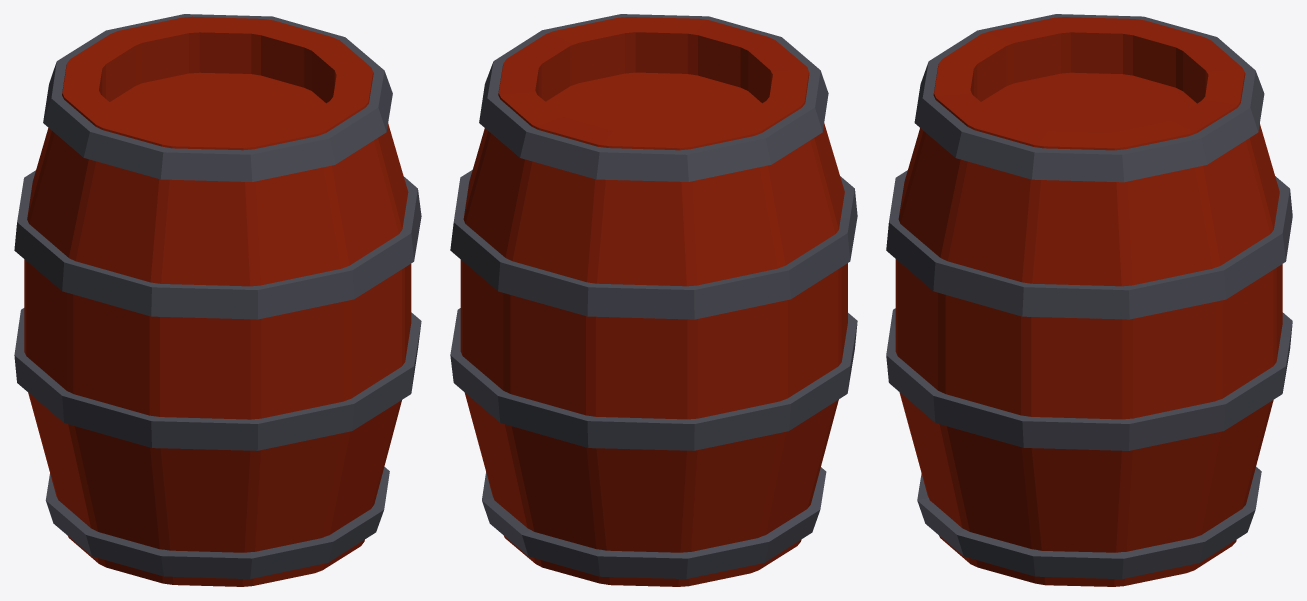
The model's file is Barrel_3.fbx.
3 renders of one model, left to right at view 1: azimuth 30°, elevation 25°; view 2: azimuth 150°, elevation 25°; view 3: azimuth 270°, elevation 25°, orthographic.
Visible parts, largest first — view 1: Barrel_3; view 2: Barrel_3; view 3: Barrel_3.
Part boxes in pixels (left/top/right/bottom): Barrel_3: left=14, top=14, right=421, bottom=586; Barrel_3: left=450, top=14, right=857, bottom=586; Barrel_3: left=886, top=14, right=1292, bottom=586.
Bounding box in the file's own units: 21.78 × 26.05 × 21.78.
